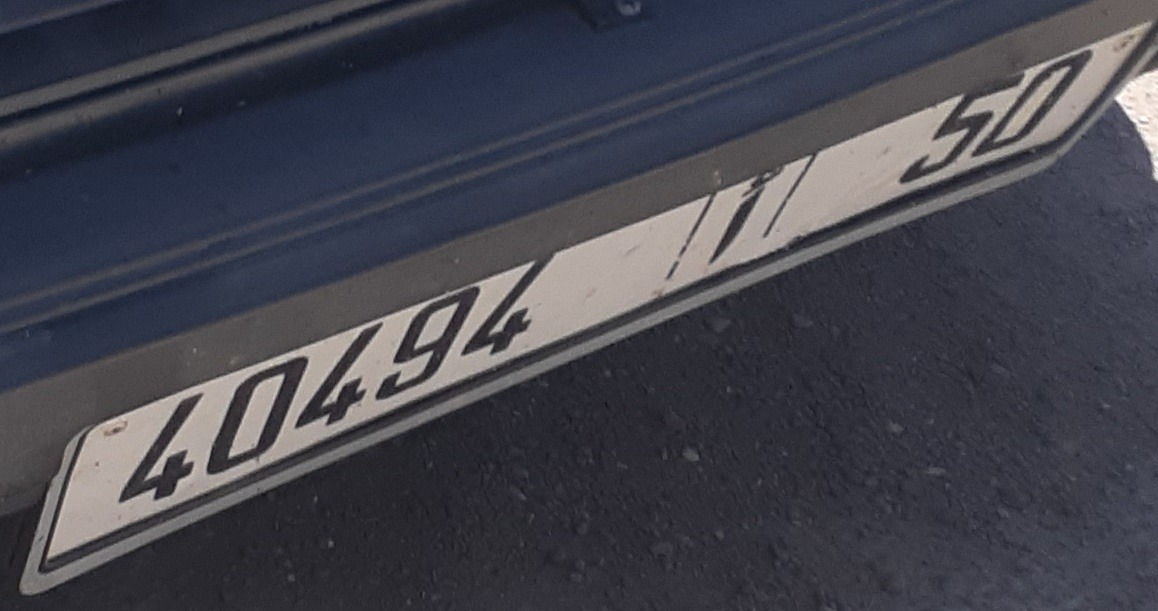0: (992, 30, 1124, 166), (202, 342, 309, 479)
4: (292, 311, 403, 445), (454, 240, 552, 376), (111, 400, 198, 513)
5: (892, 66, 1004, 199)
9: (374, 272, 478, 419)
a: (702, 161, 791, 276)
